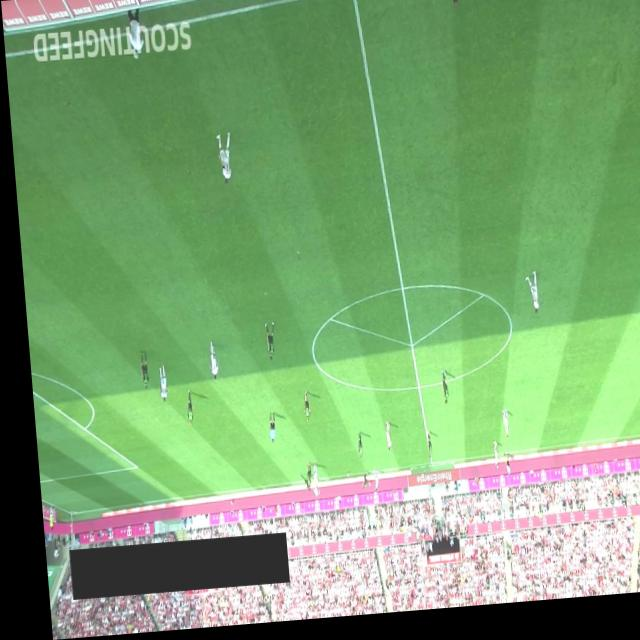player: (212, 134, 230, 189), (518, 278, 533, 323), (200, 342, 212, 383), (258, 325, 270, 364), (132, 353, 143, 391), (151, 366, 161, 405), (177, 392, 187, 428), (294, 393, 303, 426), (433, 376, 441, 410), (376, 427, 384, 456), (296, 466, 304, 494), (291, 476, 302, 495), (444, 0, 460, 13), (493, 416, 500, 445), (483, 448, 490, 476), (348, 436, 355, 464), (363, 473, 370, 498), (303, 467, 310, 492), (418, 436, 423, 465), (352, 476, 359, 494), (303, 478, 308, 501)
referee: (259, 415, 268, 447), (494, 460, 501, 484)
